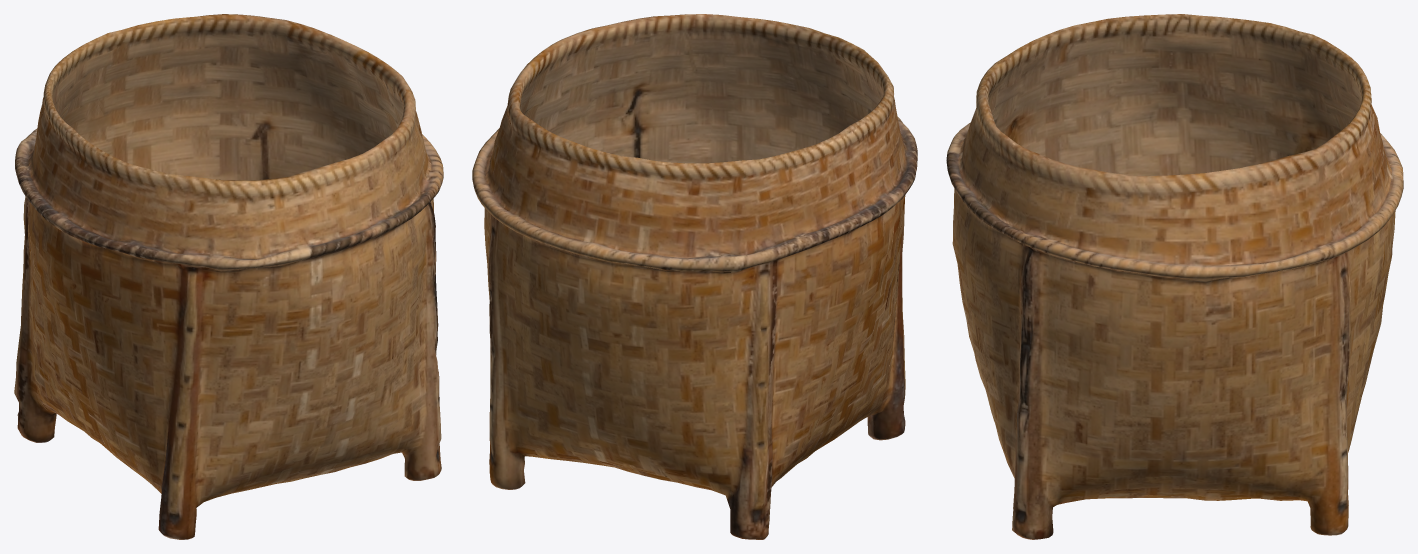
Rendered from wicker_basket_02.gltf.
3 renders of one model, left to right at view 1: azimuth 30°, elevation 25°; view 2: azimuth 150°, elevation 25°; view 3: azimuth 270°, elevation 25°, orthographic. The views are drawn at different scales.
Visible parts, largest first — view 1: wicker_basket_02_base; view 2: wicker_basket_02_base; view 3: wicker_basket_02_base.
Part boxes in pixels (<box>): wicker_basket_02_base: <box>14,14,443,539</box>; wicker_basket_02_base: <box>472,14,917,539</box>; wicker_basket_02_base: <box>946,14,1403,539</box>.
Size of the model in its own units: 0.2119 by 0.2005 by 0.2163.
1 material, 1 textured.
